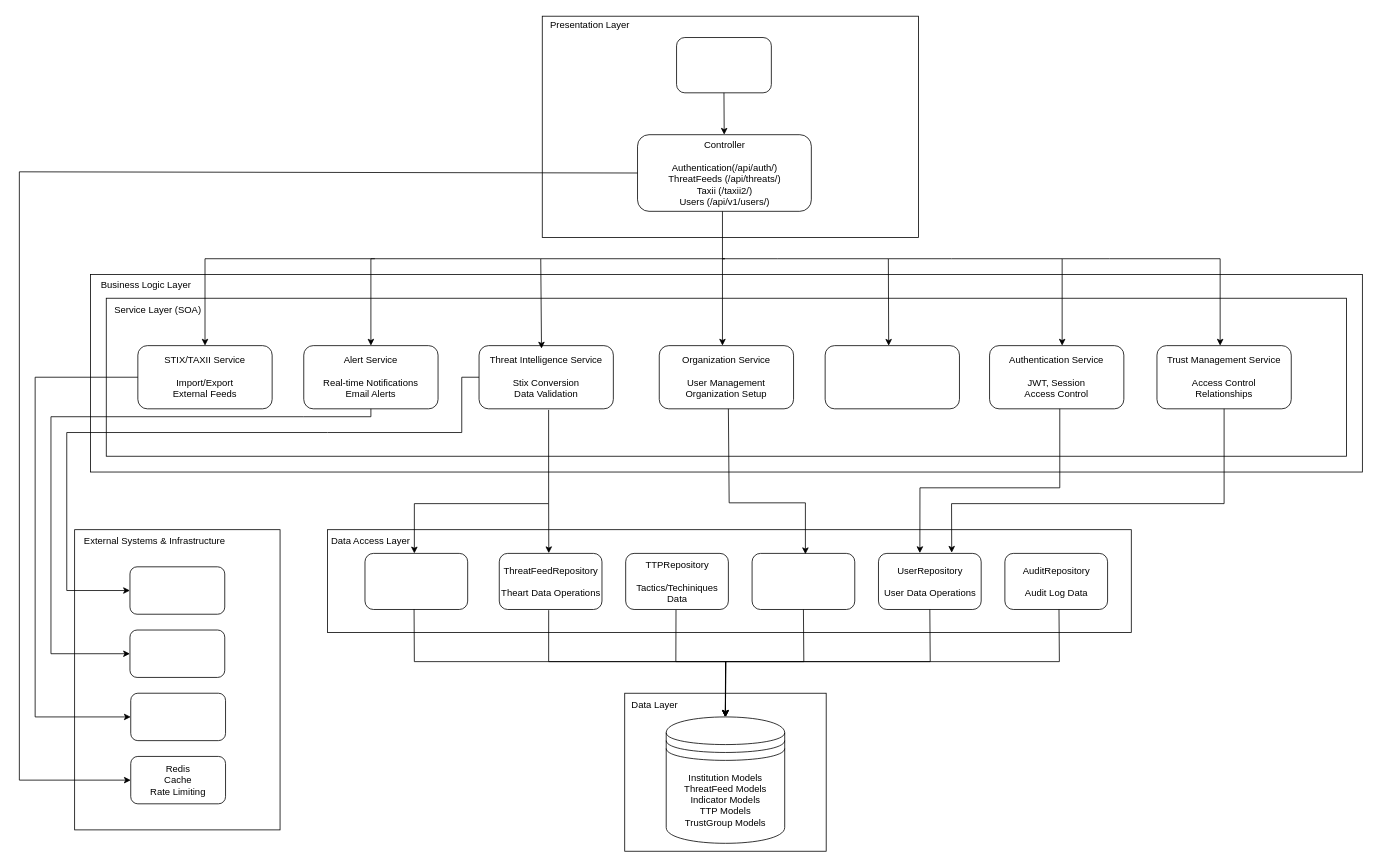
This 1376x865 diagram has some shape labels left out. Each missing label, with the box of its shape:
Anonymization Service IP masking Data Protection: (824, 345, 959, 409)
Celery Background Tasks Async Processing: (129, 566, 225, 614)
Email Service SMTP Notifactions: (129, 629, 225, 677)
External Taxii Feeds AlienVault OTX: (130, 692, 226, 741)
IndicatorRepository Ioc Data Operations: (364, 553, 468, 609)
OrganizationRepository Organization Data: (751, 553, 855, 609)
View React Components D3,js Charts: (676, 37, 771, 93)
